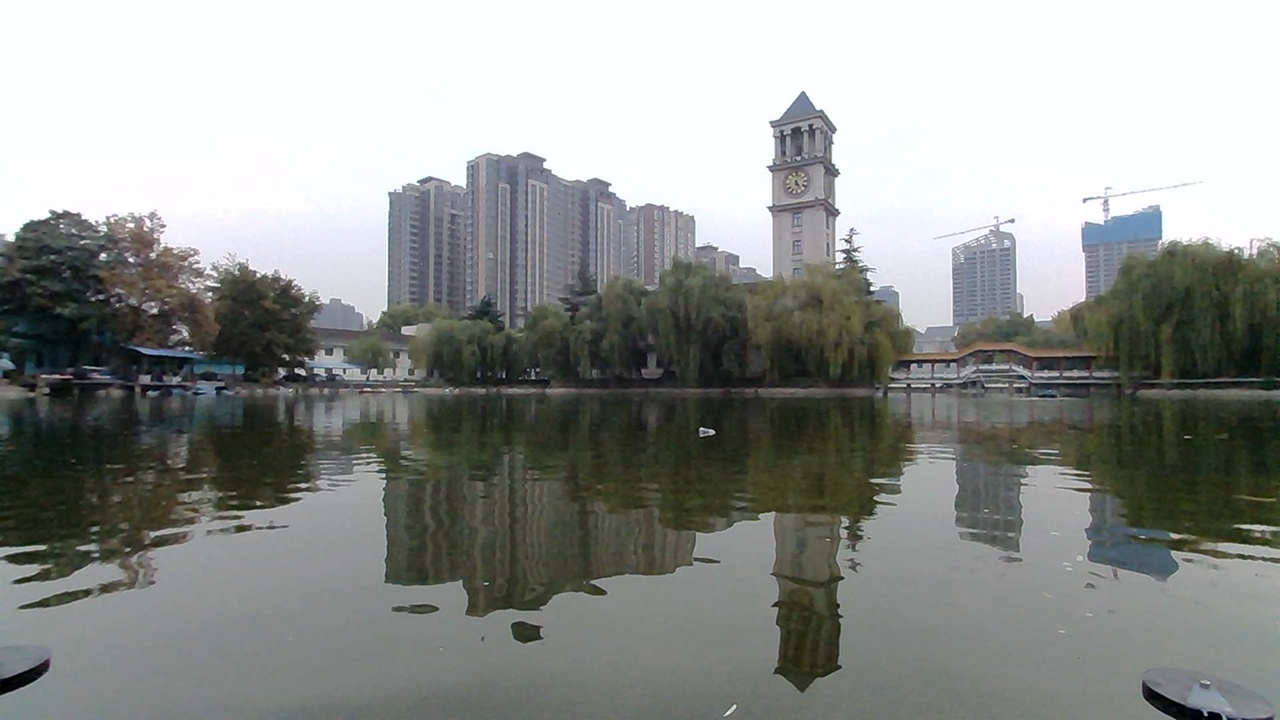bottle: (692, 412, 731, 442)
